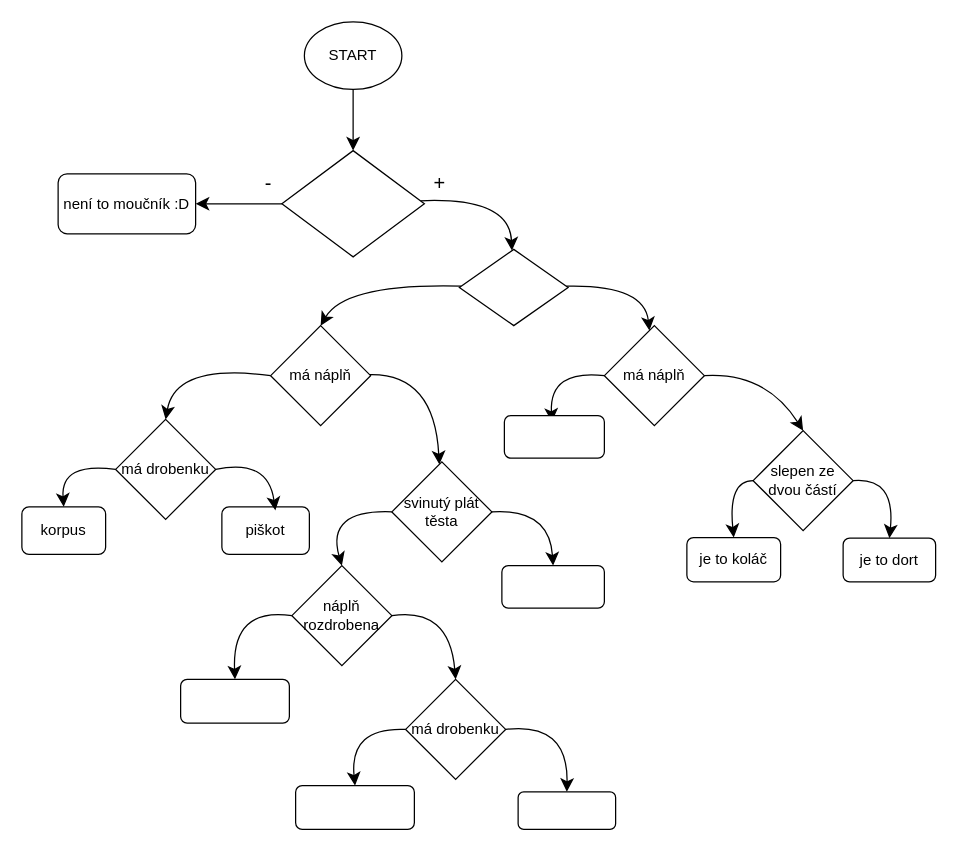
Image size: 958x851. Some labels were removed from this diagram. The box of each missing label's shape, as (x1, y1, x2, y2) in pixels:
je kulatý: (458, 248, 568, 326)
je to bublanina (třená buchta): (294, 784, 414, 829)
je to buchta: (179, 678, 289, 723)
je to bábovka: (503, 414, 604, 458)
je to moučník: (281, 149, 424, 257)
je to táč: (517, 791, 616, 829)
je to závin: (501, 564, 604, 608)
